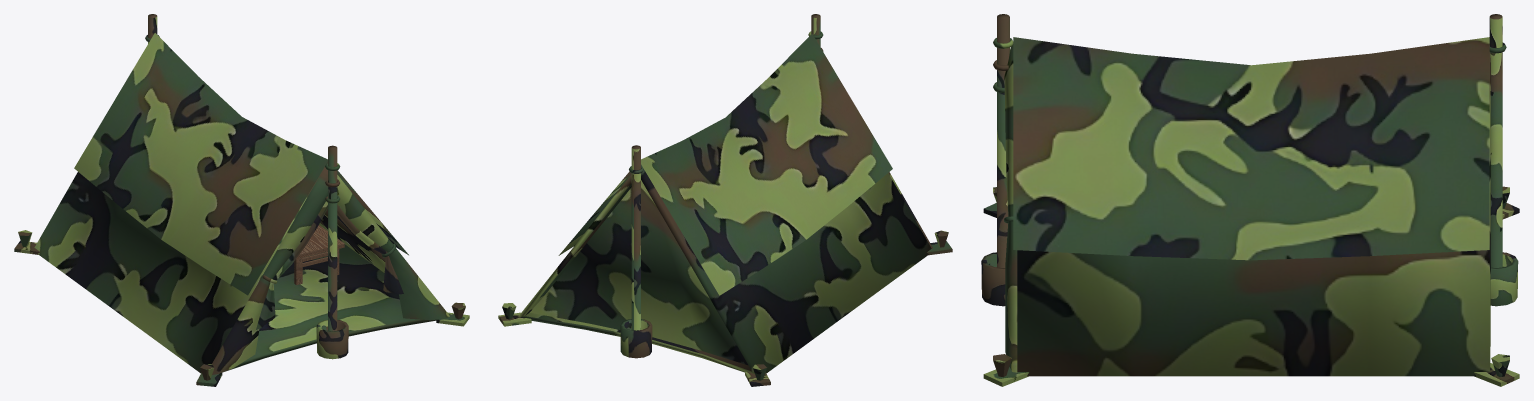
The picture shows the model from 3 angles, left to right: view 1: azimuth 30°, elevation 25°; view 2: azimuth 150°, elevation 25°; view 3: azimuth 270°, elevation 25°; orthographic projection. The views are drawn at different scales.
Visible parts, largest first — view 1: Camp, desk; view 2: Camp; view 3: Camp.
Boxes of the visible parts, left/top/right/bottom form: Camp: left=14, top=14, right=469, bottom=386; desk: left=294, top=225, right=344, bottom=284; Camp: left=498, top=14, right=952, bottom=386; Camp: left=981, top=14, right=1519, bottom=386.
Size of the model in its own units: 224 by 160 by 279.
Materials: 2 (2 with a texture image).
